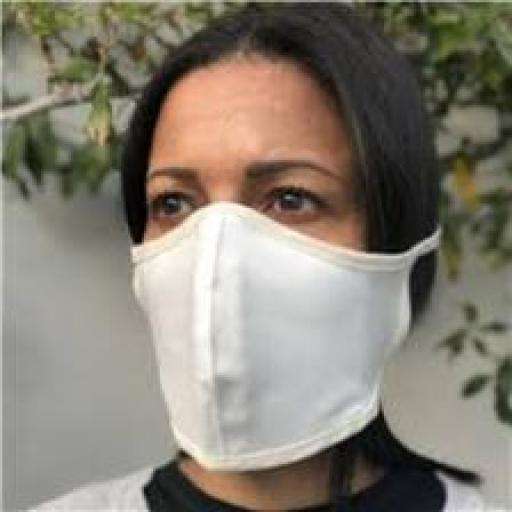mask: (116, 200, 428, 475)
